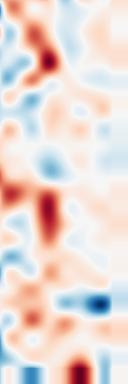filament: (12, 23, 70, 89), (32, 183, 69, 258)
